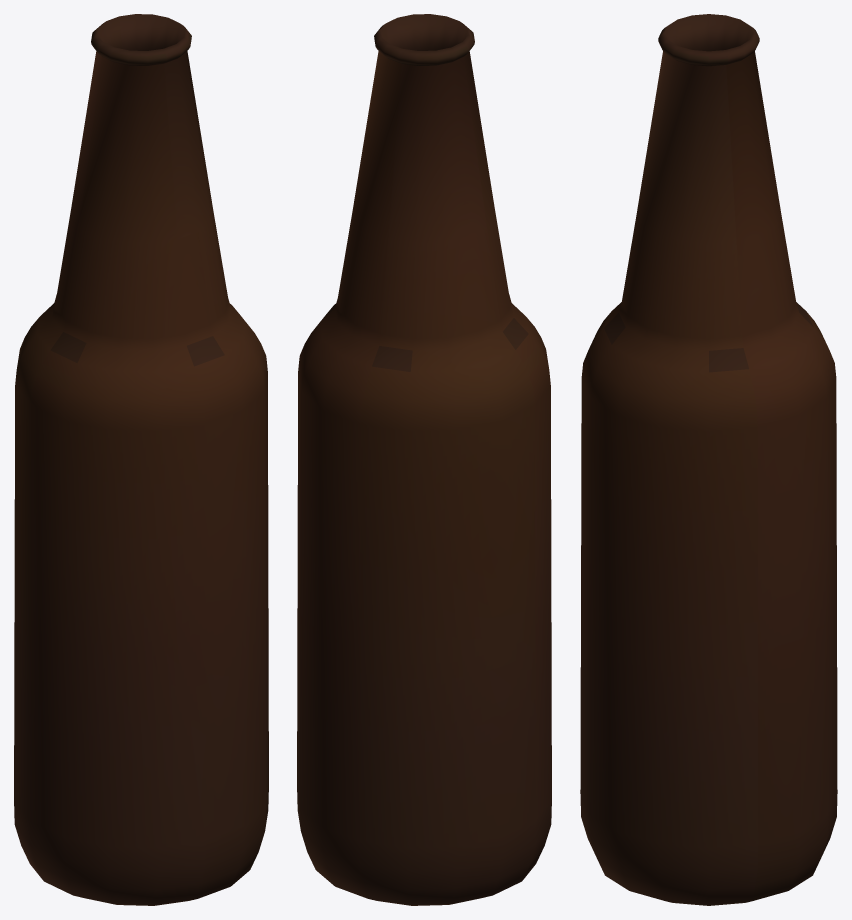
File: Beer bottle fin 2.fbx
The picture shows the model from 3 angles, left to right: view 1: azimuth 30°, elevation 25°; view 2: azimuth 150°, elevation 25°; view 3: azimuth 270°, elevation 25°; orthographic projection.
Parts seen in each view (by area): view 1: Plane; view 2: Plane; view 3: Plane.
Boxes of the visible parts, x1,y1,x2,y2 form: Plane: (14,14,268,905); Plane: (297,14,551,905); Plane: (580,14,837,905).
Size of the model in its own units: 124 by 447 by 124.
